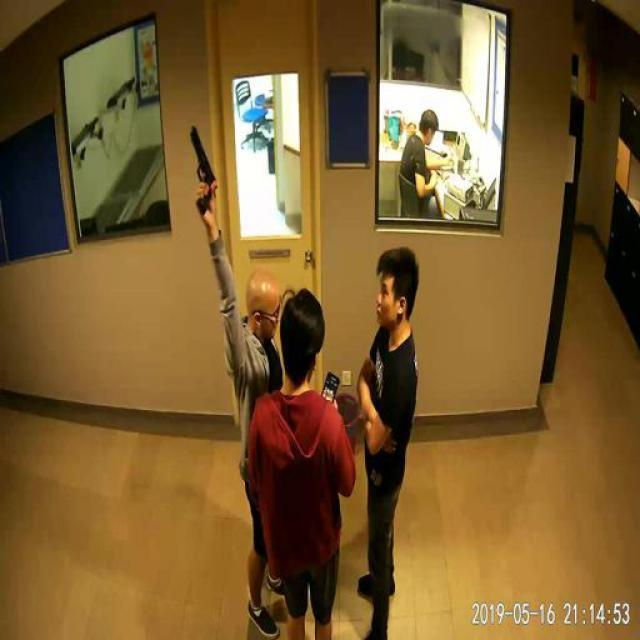weapon: (188, 125, 218, 217)
